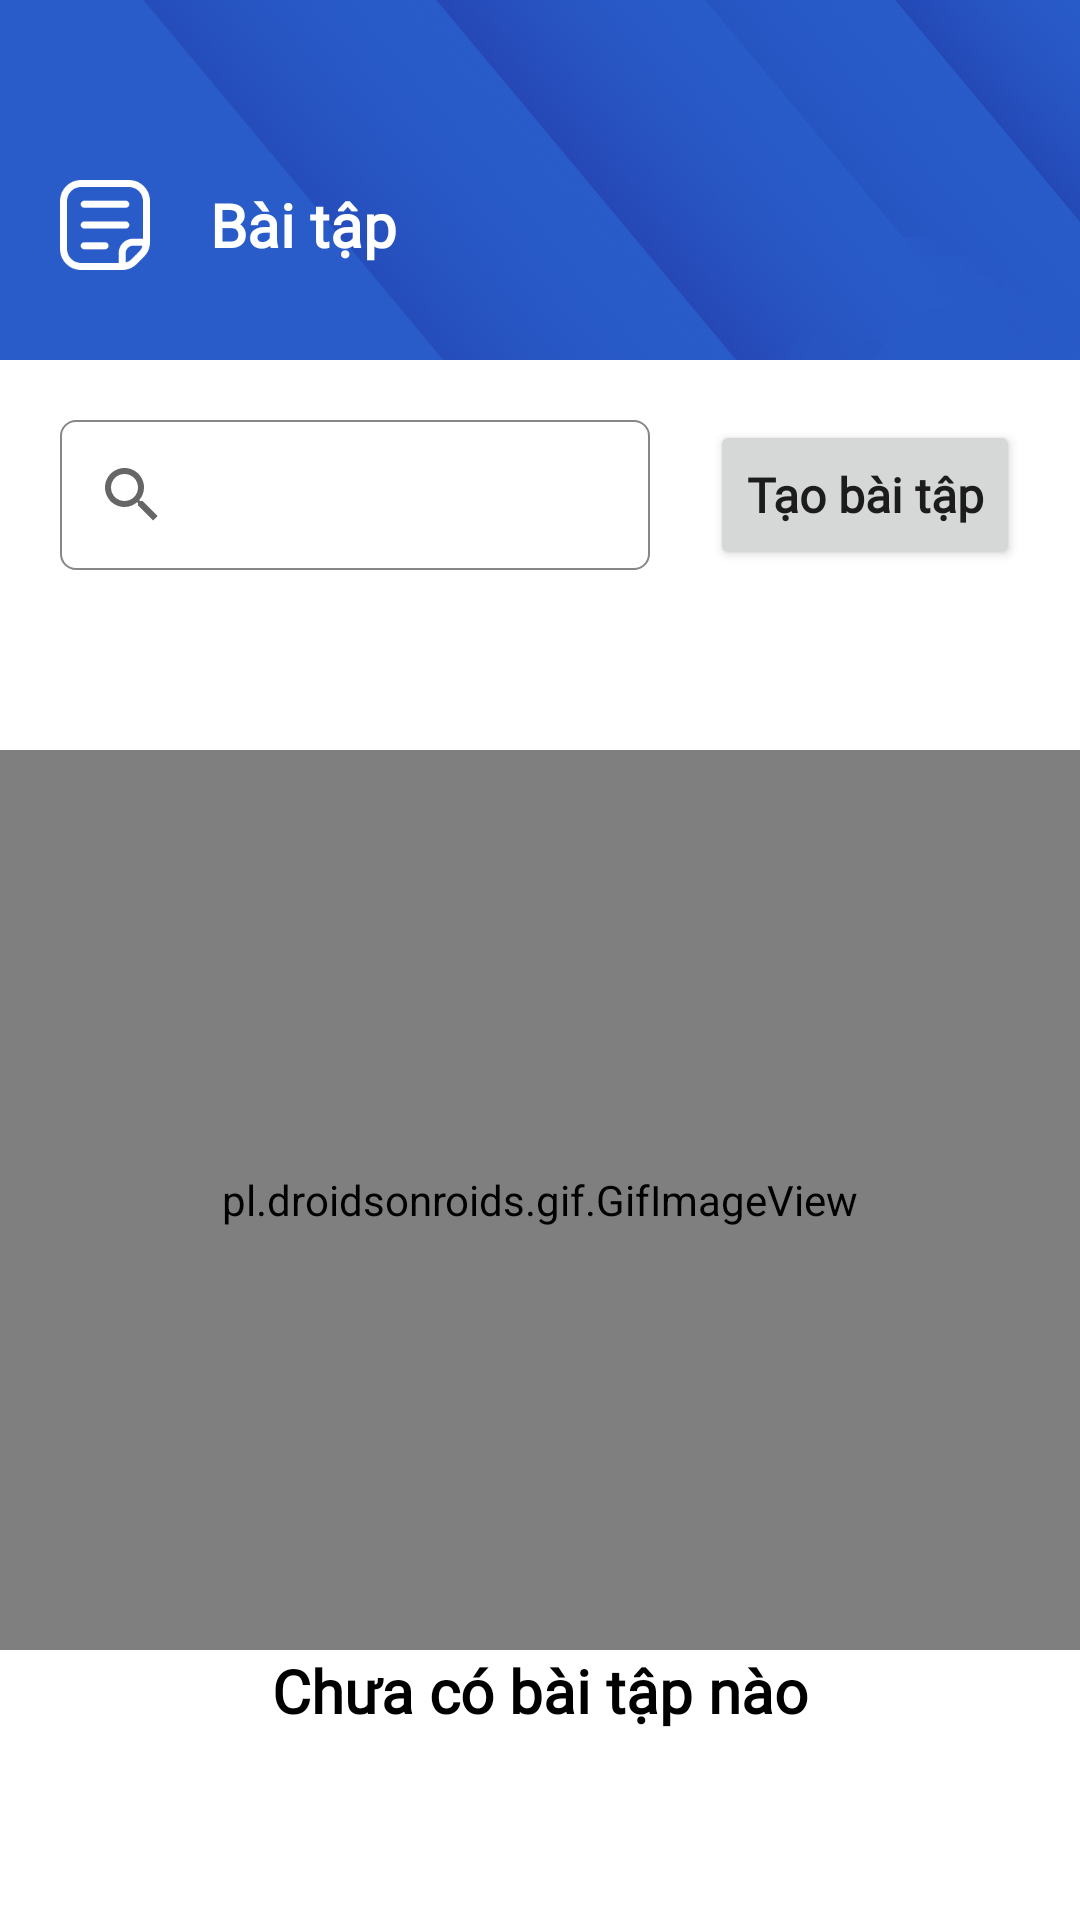

Icons on this 1080*1920 Android screen, each with its box as region(x1, y1, x2, y2):
file: region(60, 180, 150, 270)
